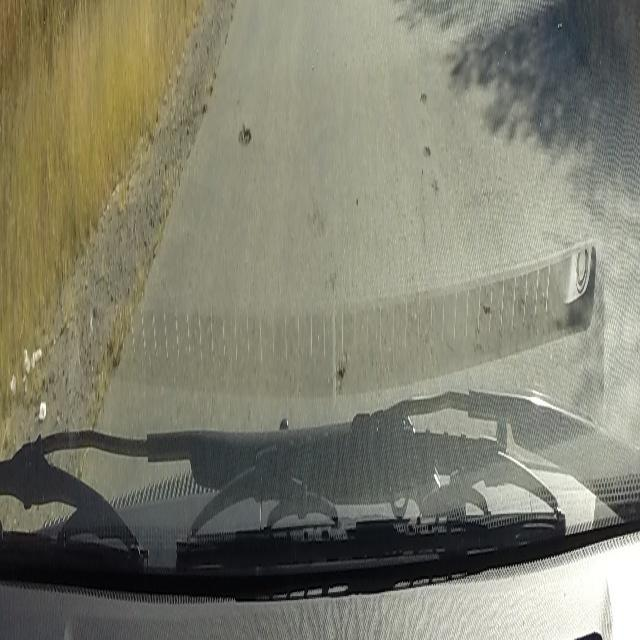pothole: (238, 122, 252, 149)
